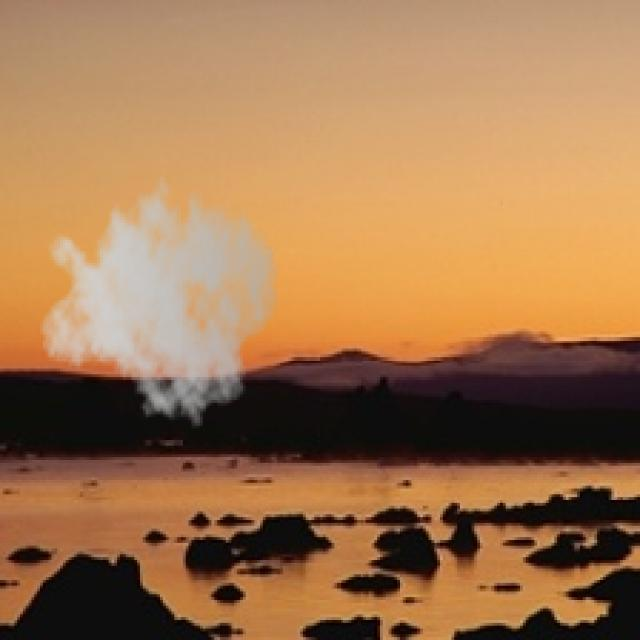smoke: (40, 160, 280, 429)
